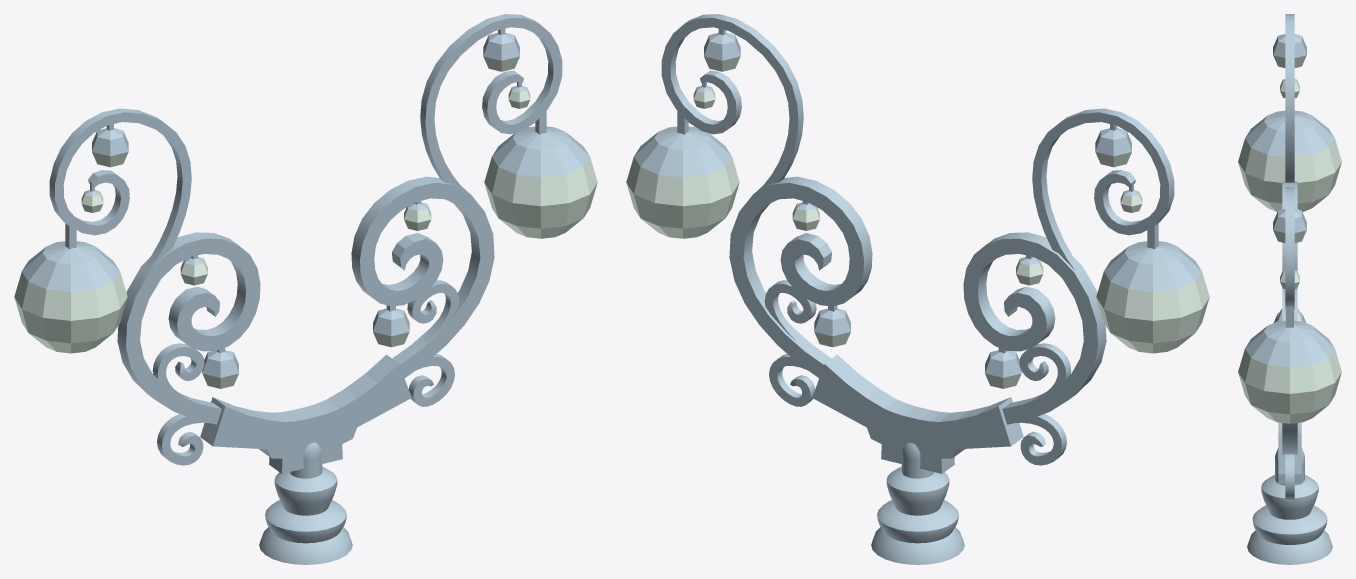
File: streetlight_27_d1.fbx
The picture shows the model from 3 angles, left to right: view 1: azimuth 30°, elevation 25°; view 2: azimuth 150°, elevation 25°; view 3: azimuth 270°, elevation 25°; orthographic projection. The views are drawn at different scales.
Visible parts, largest first — view 1: pPlane28 (×2), pSphere35 (×2), pPlane27 (×2), streetlight_27_d1, pPlane24, pPlane30, pPlane26 (×2), pPlane29 (×2), pSphere37 (×2), pSphere39 (×2); view 2: pPlane28 (×2), pSphere35 (×2), pPlane27 (×2), streetlight_27_d1, pPlane24, pPlane30, pPlane26 (×2), pPlane29 (×2), pSphere37 (×2), pSphere39 (×2); view 3: pSphere35 (×2), streetlight_27_d1, pPlane27 (×2), pSphere37 (×2), pPlane28 (×2), pPlane24, pPlane29, pSphere36 (×2), stem1.
Part boxes in pixels (<box>): pPlane28 (×2): <box>117,176,494,424</box>; pSphere35 (×2): <box>14,126,597,353</box>; pPlane27 (×2): <box>49,14,562,270</box>; streetlight_27_d1: <box>259,442,352,564</box>; pPlane24: <box>300,354,411,464</box>; pPlane30: <box>200,397,312,473</box>; pPlane26 (×2): <box>152,280,459,399</box>; pPlane29 (×2): <box>157,354,454,465</box>; pSphere37 (×2): <box>92,33,519,167</box>; pSphere39 (×2): <box>202,308,409,388</box>; pPlane28 (×2): <box>729,176,1106,424</box>; pSphere35 (×2): <box>626,126,1209,353</box>; pPlane27 (×2): <box>661,14,1174,270</box>; streetlight_27_d1: <box>871,442,964,564</box>; pPlane24: <box>812,354,923,464</box>; pPlane30: <box>911,397,1023,473</box>; pPlane26 (×2): <box>764,280,1071,399</box>; pPlane29 (×2): <box>769,354,1066,465</box>; pSphere37 (×2): <box>704,33,1131,167</box>; pSphere39 (×2): <box>814,308,1021,388</box>; pSphere35 (×2): <box>1238,110,1341,423</box>; streetlight_27_d1: <box>1247,448,1332,564</box>; pPlane27 (×2): <box>1285,14,1294,320</box>; pSphere37 (×2): <box>1273,34,1306,242</box>; pPlane28 (×2): <box>1282,181,1297,454</box>; pPlane24: <box>1278,426,1301,484</box>; pPlane29: <box>1285,454,1294,500</box>; pSphere36 (×2): <box>1280,79,1299,288</box>; stem1: <box>1286,306,1293,327</box>.
Size of the model in its own units: 8.03 by 6.48 by 1.39.
